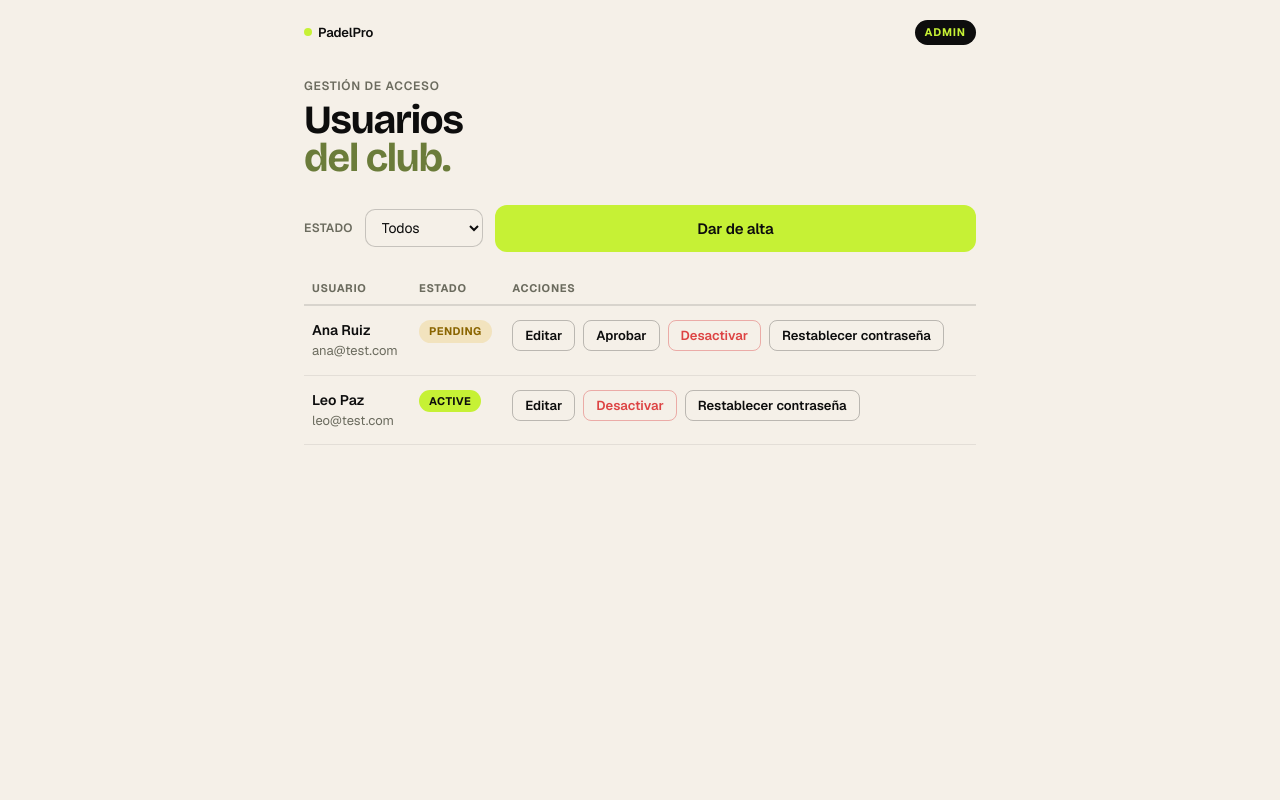
Test case: AdminUsuariosPage — edición de usuario (4.2/4.3) › 4.2 — edit preloads data, offers no role field, and PATCHes + refreshes
Click the button "Editar" in the row of "Paz".
click(544, 405)  # box [512, 390, 575, 420]
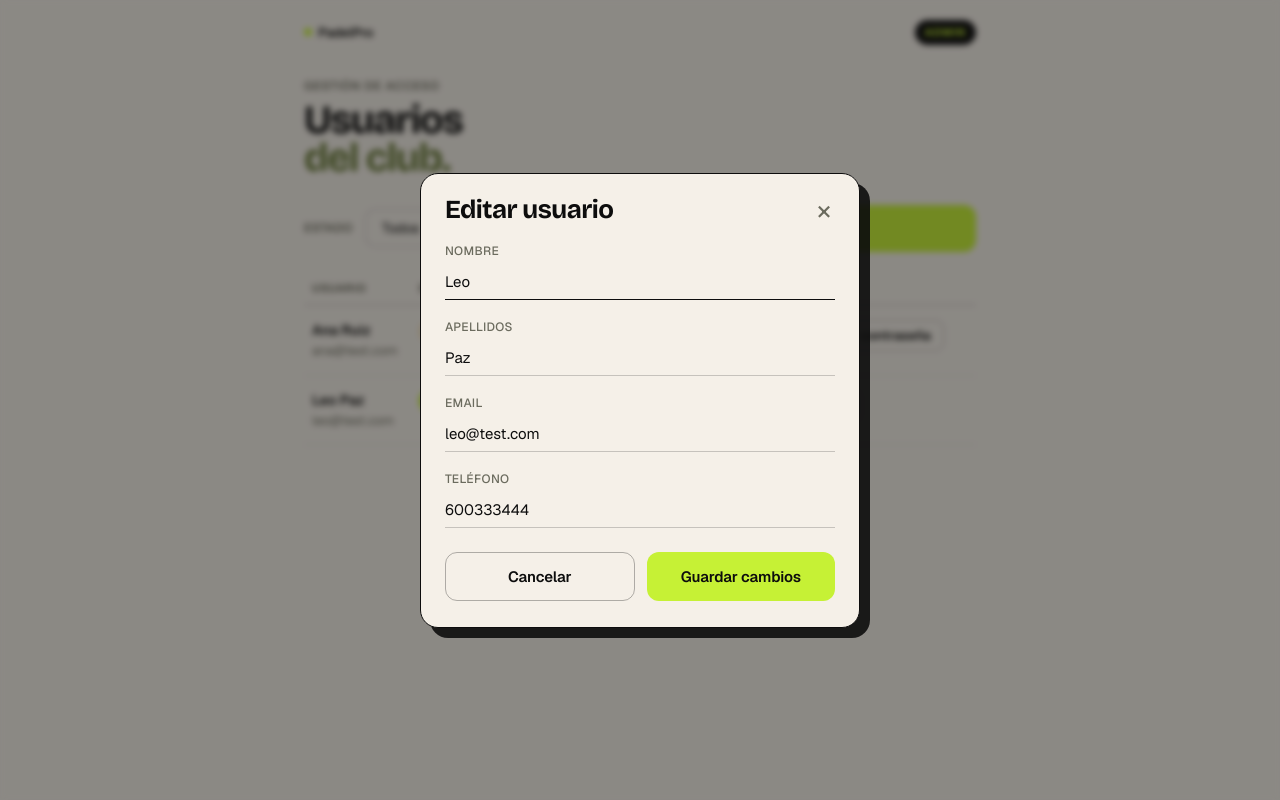
Result: the field labelled "Nombre" holds "Leo"
Result: the field labelled "Email" holds "leo@test.com" at [445, 416, 835, 452]
Replace the text in the field labelled "Nombre" with "LeoEdit" at (640,282), box [445, 264, 835, 300]
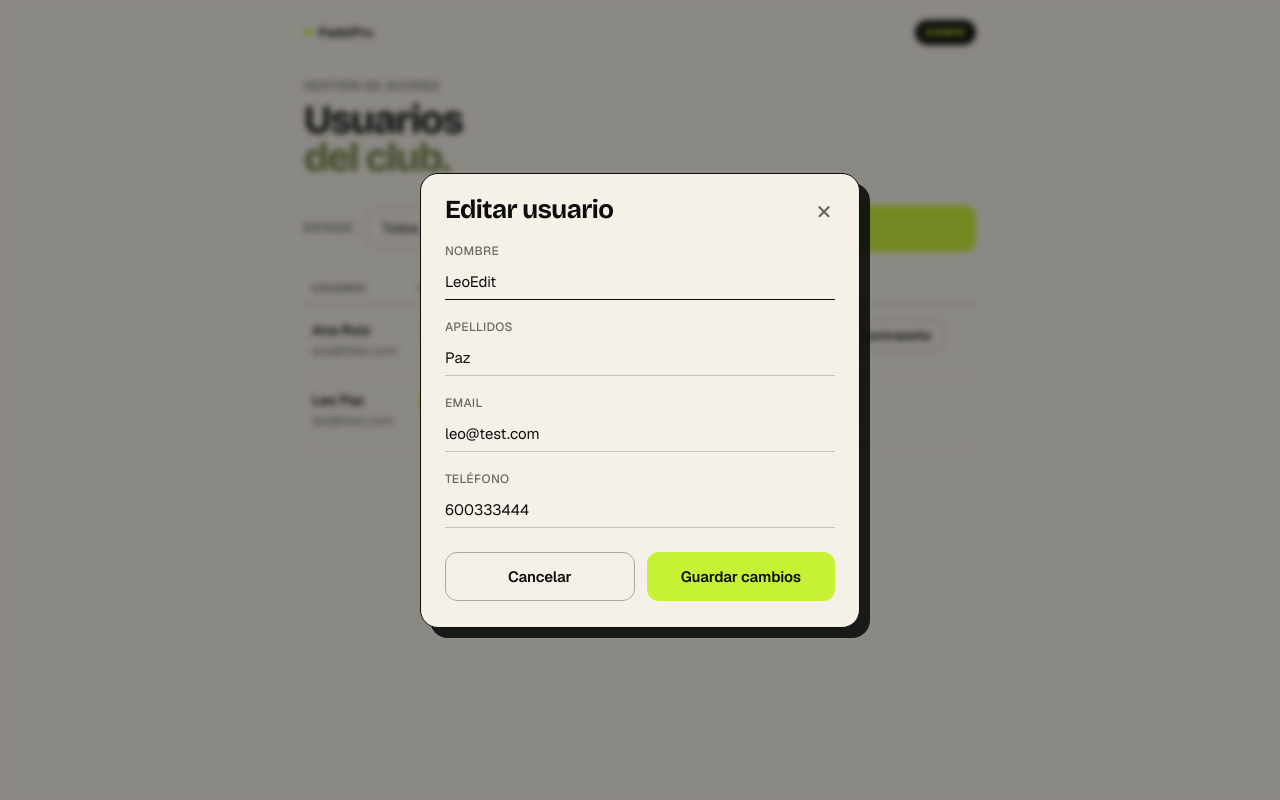
Replace the text in the field labelled "Email" with "leo2@test.com" at (640,434), box [445, 416, 835, 452]
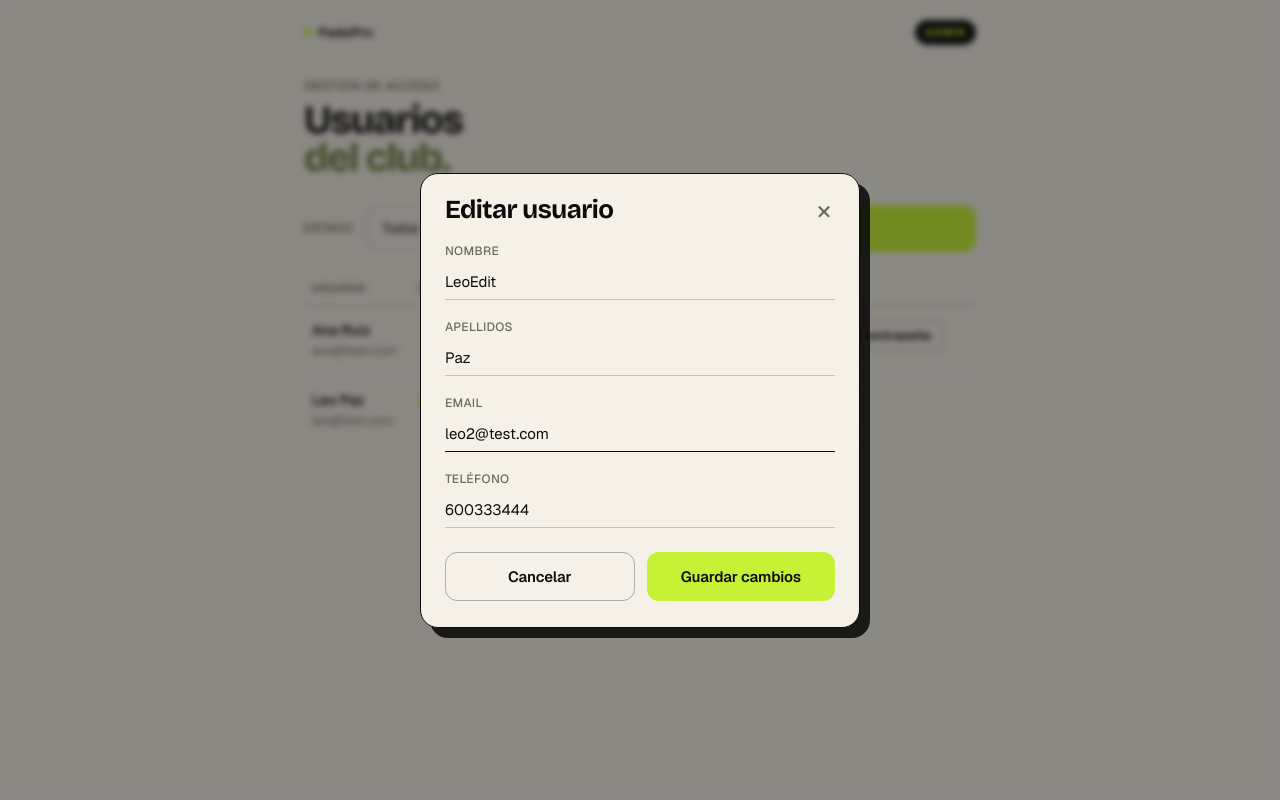
Click the button "Guardar cambios".
click(741, 576)  # box [647, 552, 835, 600]
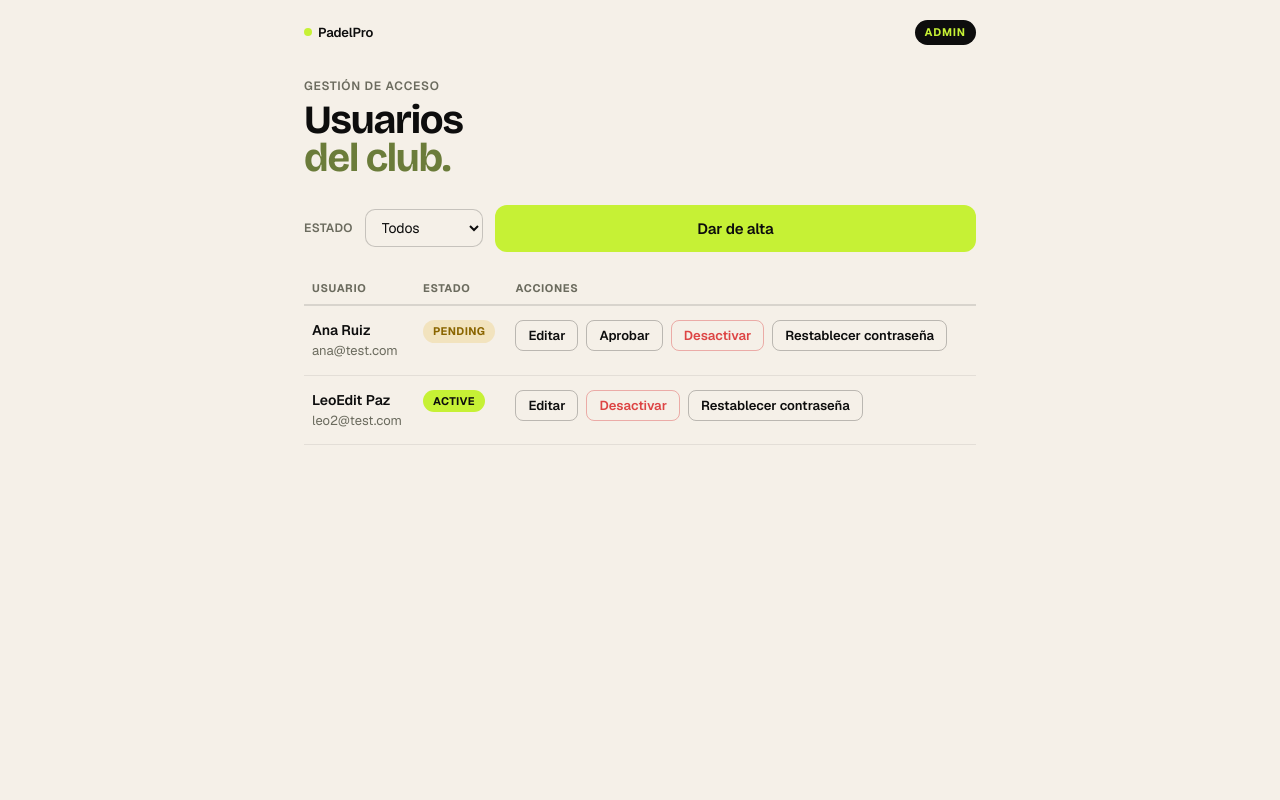
Result: the text "leo2@test.com" is shown at [312, 410, 407, 430]
